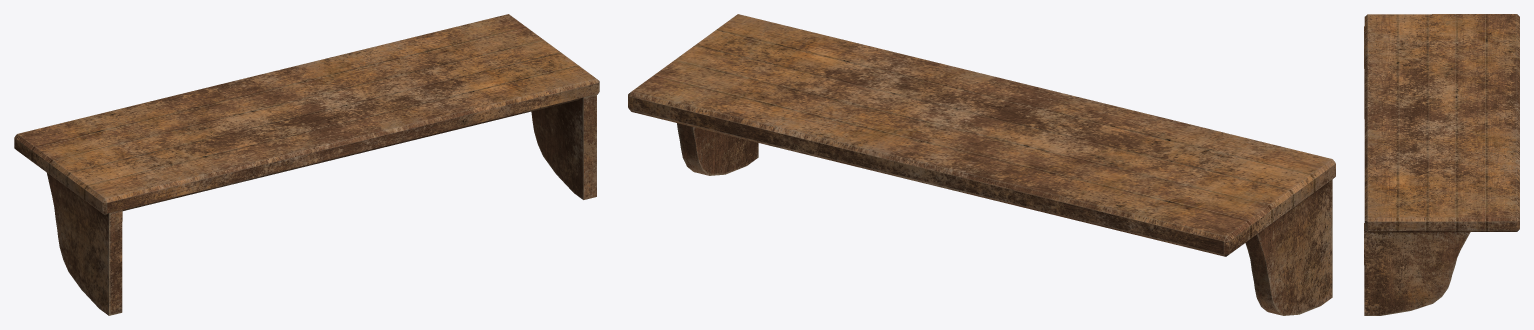
File: old_shelf.glb
3 views of the same model, side by side, from view 1: azimuth 30°, elevation 25°; view 2: azimuth 150°, elevation 25°; view 3: azimuth 270°, elevation 25° (orthographic). The views are drawn at different scales.
Visible parts, largest first — view 1: shelf_low_Material_0; view 2: shelf_low_Material_0; view 3: shelf_low_Material_0.
Part boxes in pixels (bbox=[...]): shelf_low_Material_0: bbox=[14, 14, 599, 315]; shelf_low_Material_0: bbox=[628, 14, 1335, 315]; shelf_low_Material_0: bbox=[1364, 14, 1519, 315].
Bounding box in the file's own units: 0.5893 × 0.1322 × 0.1884.
1 material, 1 textured.
